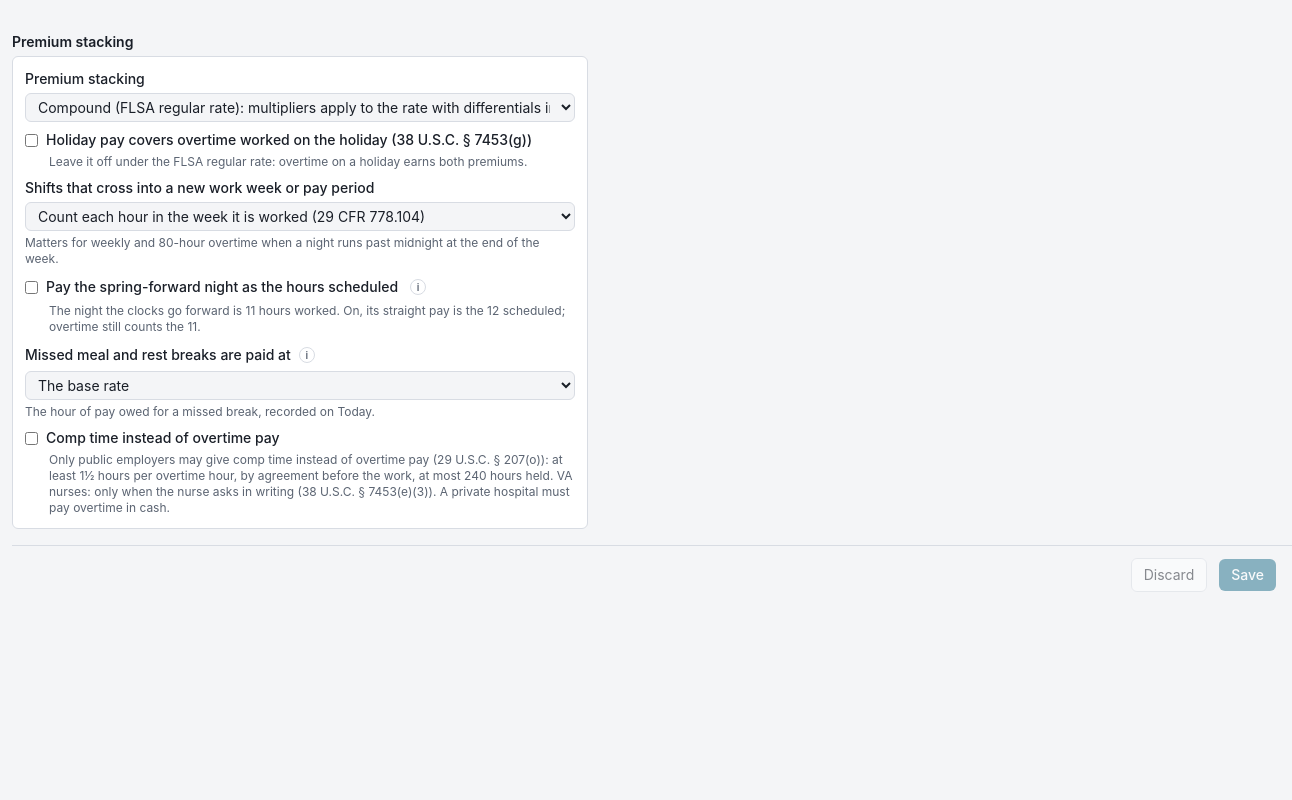
Test: comp time in Settings › Pay › is off until switched on, then asks for the rate and the cap
expect the field labelled "Comp hours per overtime hour" is not shown: met
Click the checkbox labelled "Comp time instead of overtime pay". click: (32,438)
box: [25,432,38,444]
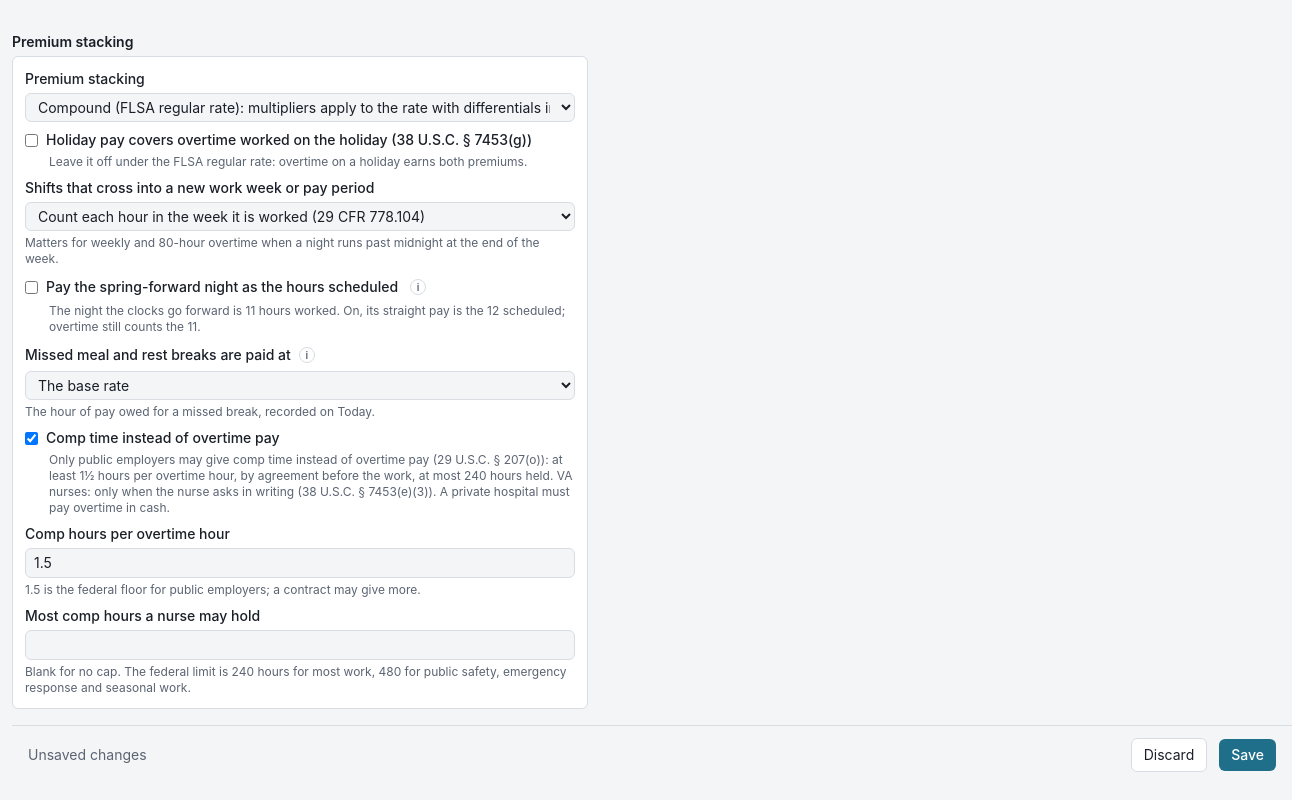
expect the number field labelled "Comp hours per overtime hour" holds "1.5": met, box [25,548,575,578]
